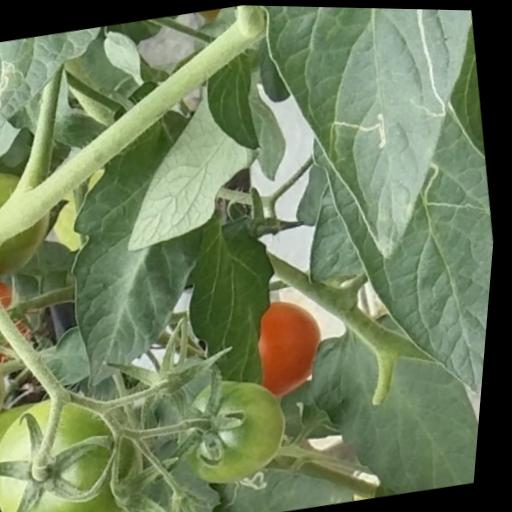Healthy: (36, 103, 240, 390), (295, 308, 493, 507), (171, 211, 303, 394)
Leaf_Miner: (237, 4, 511, 277), (0, 23, 125, 186)
